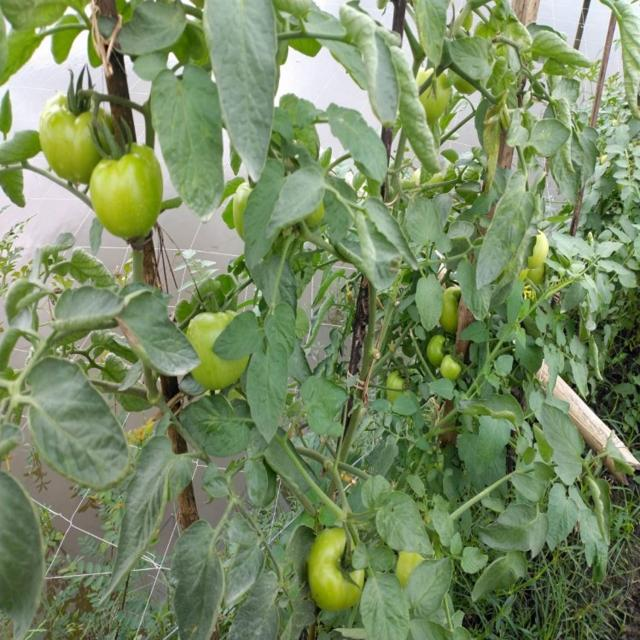tomato: (95, 141, 164, 237), (41, 94, 114, 179), (189, 309, 257, 388), (310, 524, 367, 610), (421, 67, 455, 120), (388, 541, 425, 586), (439, 282, 461, 331), (526, 228, 551, 269), (236, 177, 254, 230), (384, 371, 410, 399), (438, 352, 461, 383), (425, 336, 447, 363)
